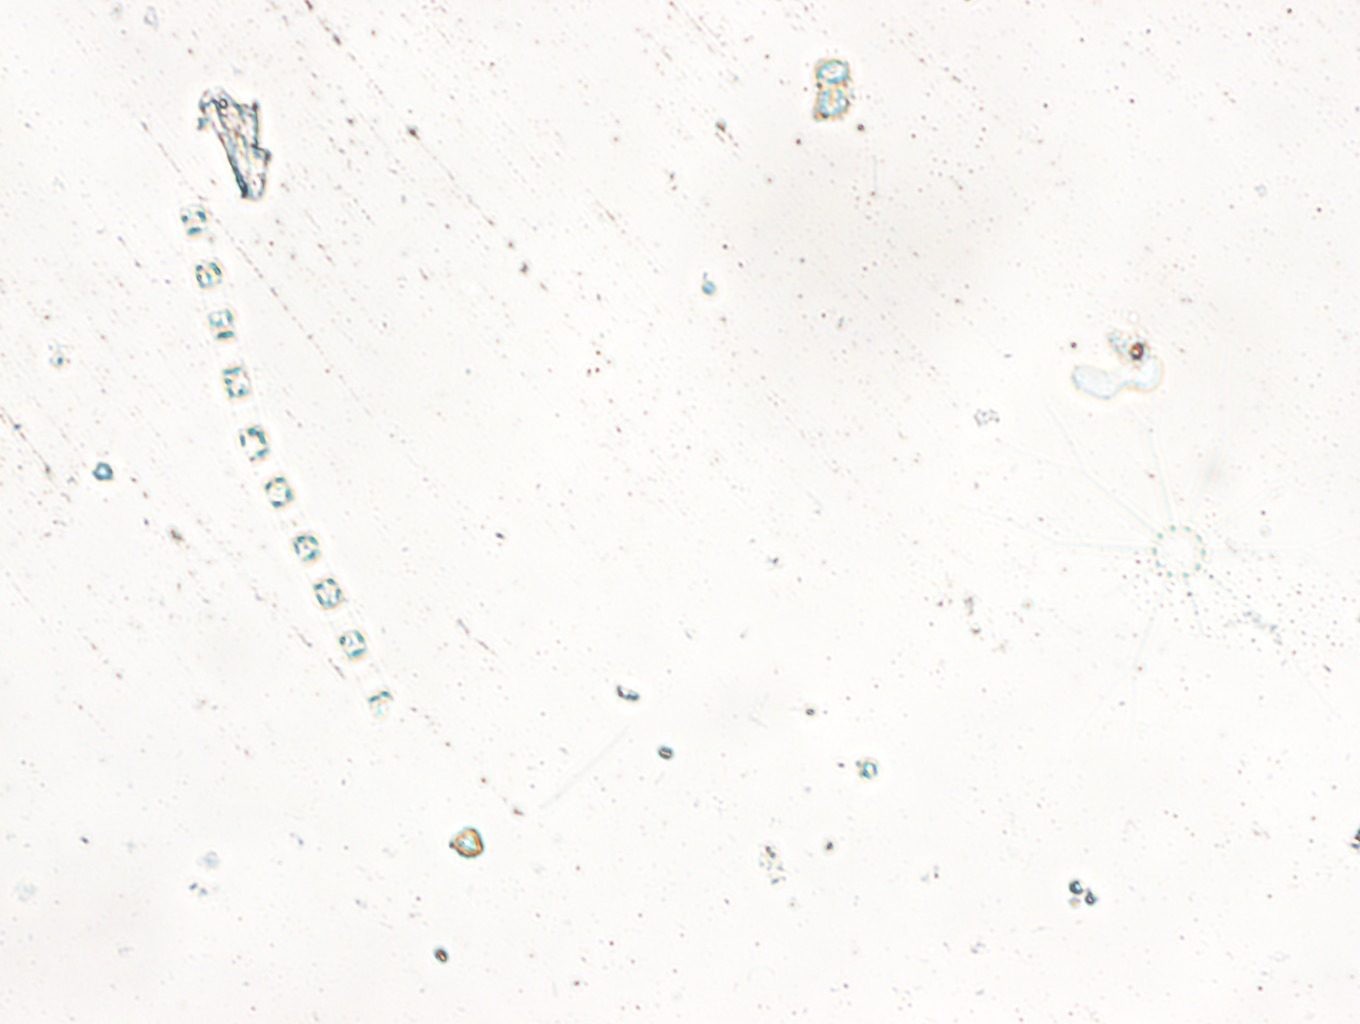bacteriastrum: (994, 400, 1355, 711)
skeletonema: (238, 429, 395, 714), (178, 201, 267, 464)
